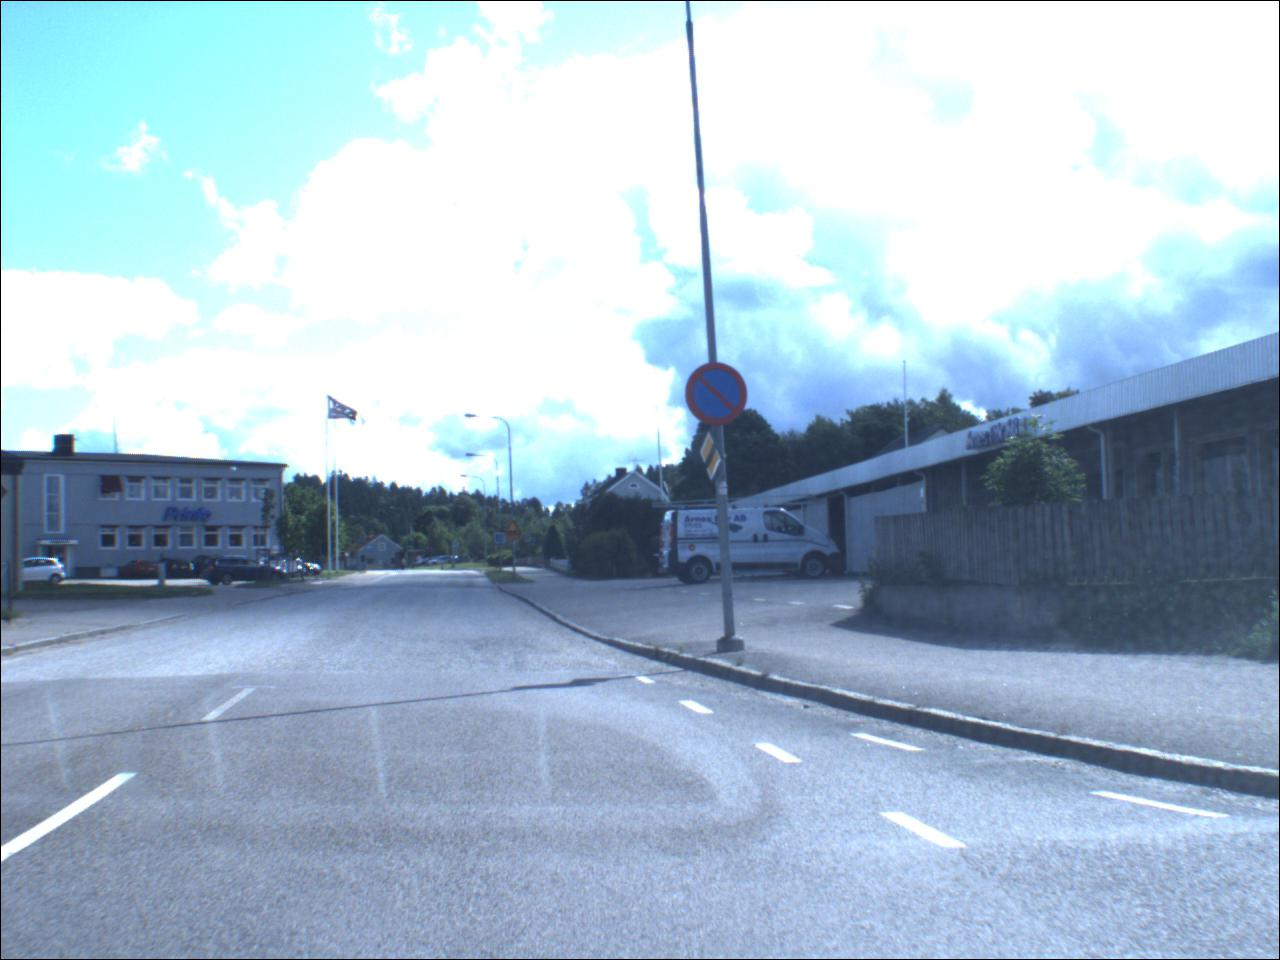NO_PARKING: (686, 362, 751, 431)
WARNING: (700, 432, 726, 484)
WARNING_BAD_ROAD: (506, 522, 524, 538)
